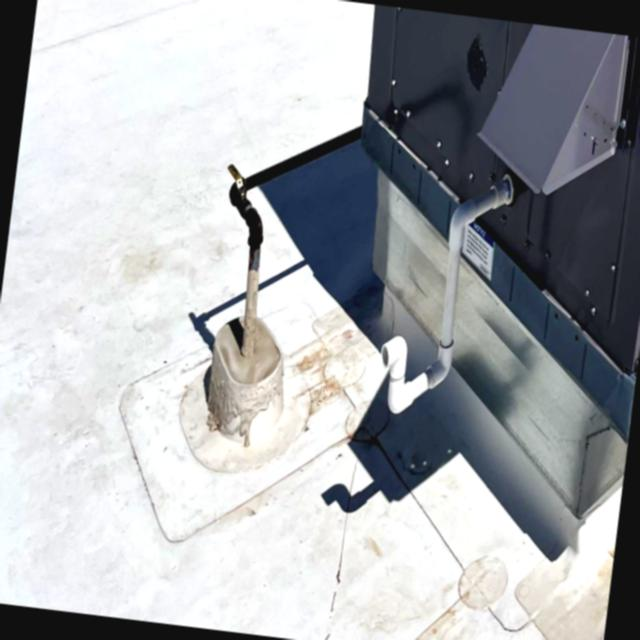RTU: (287, 1, 640, 552)
